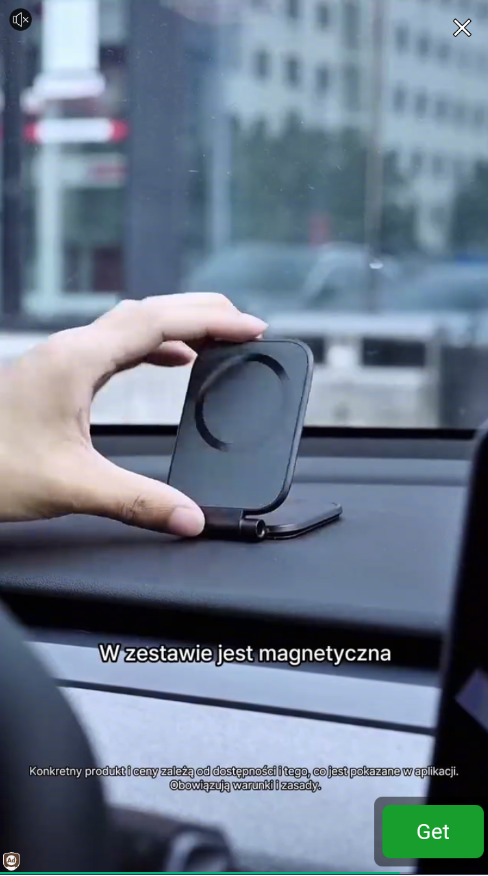close_button: (449, 15, 478, 43)
